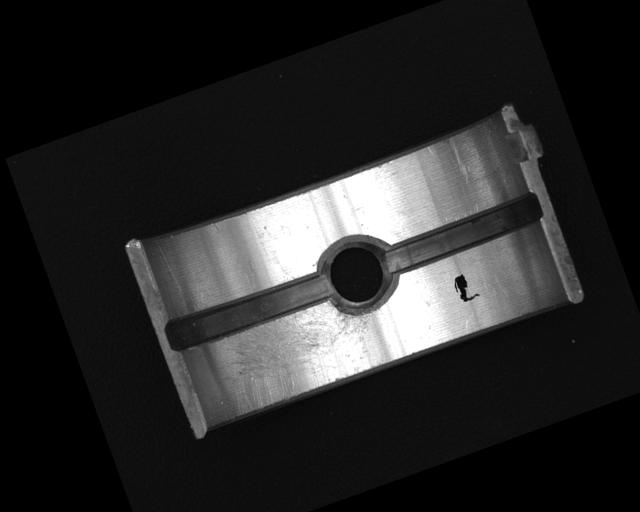blot: (450, 270, 480, 306)
gap: (161, 266, 335, 357), (380, 191, 545, 276)
hole: (313, 230, 406, 322)
nick: (447, 138, 472, 185)
scratch: (207, 288, 389, 417)
